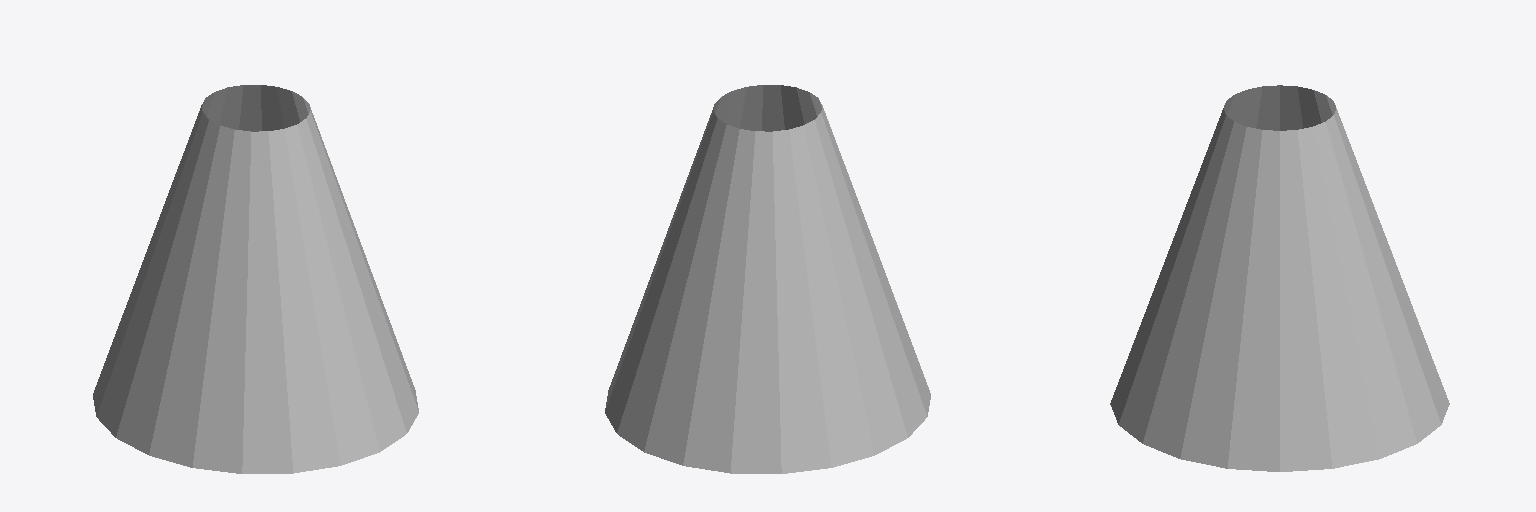
File: area51_tower_ufo_tractorBeam.obj
The picture shows the model from 3 angles: view 1: azimuth 30°, elevation 25°; view 2: azimuth 150°, elevation 25°; view 3: azimuth 270°, elevation 25°; orthographic projection.
Size of the model in its own units: 8.05 by 8.11 by 8.44.